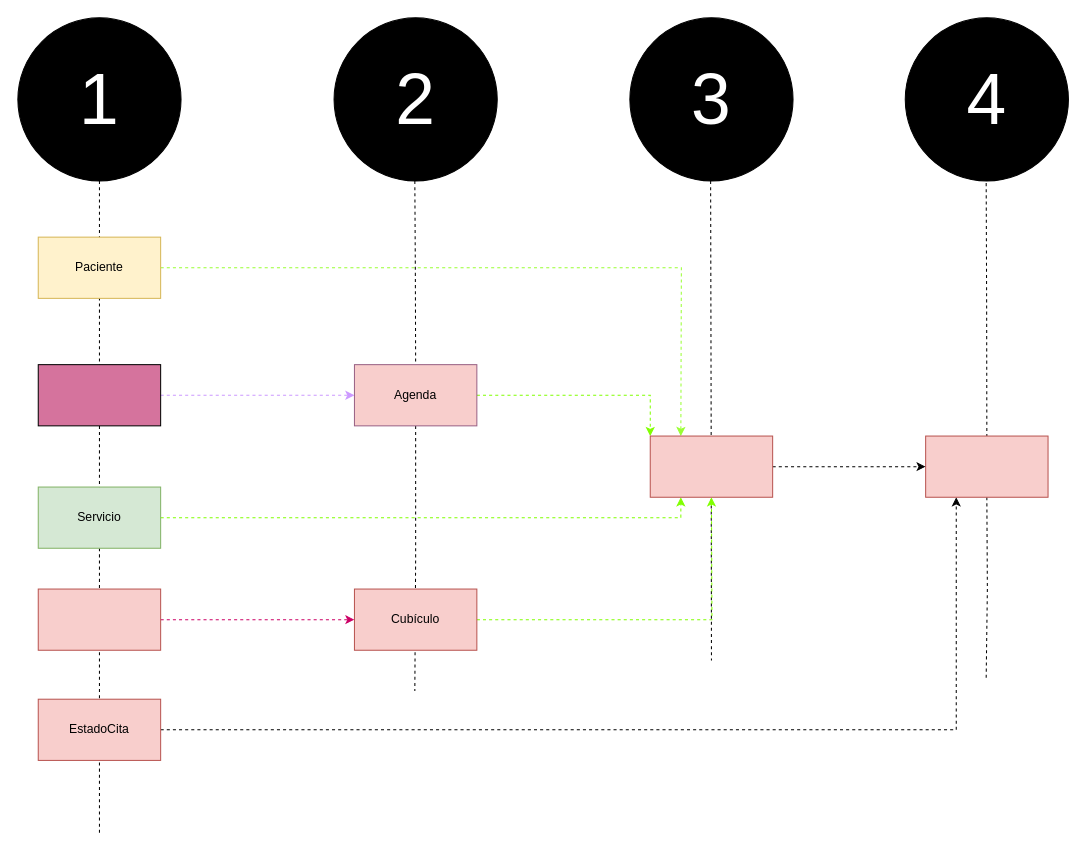
The diagram is 1086 pixels wide and 853 high, and some of its shapes have lost their labels. The shapes that lost their labels are listed below. From the top down, each one's centre as x and y in pixels, then its label:
At (99,395): "Personal".
At (711,466): "Turno".
At (986,466): "Cita".
At (99,619): "TipoCubículo".
